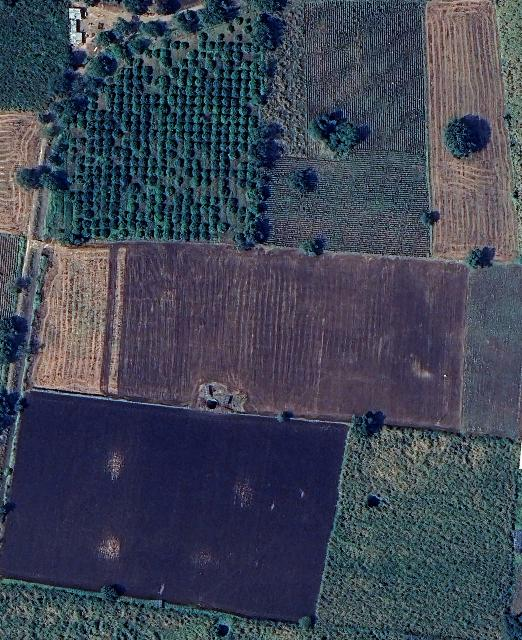EmptyFarms: (0, 389, 349, 624), (123, 244, 469, 434)
Farms: (0, 424, 520, 639), (37, 0, 269, 243), (265, 0, 433, 258), (430, 0, 521, 262), (31, 242, 109, 395), (465, 264, 522, 441), (0, 0, 69, 109), (0, 111, 55, 235)
